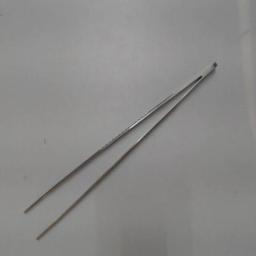DeBakey Dissector: (17, 48, 225, 250)
